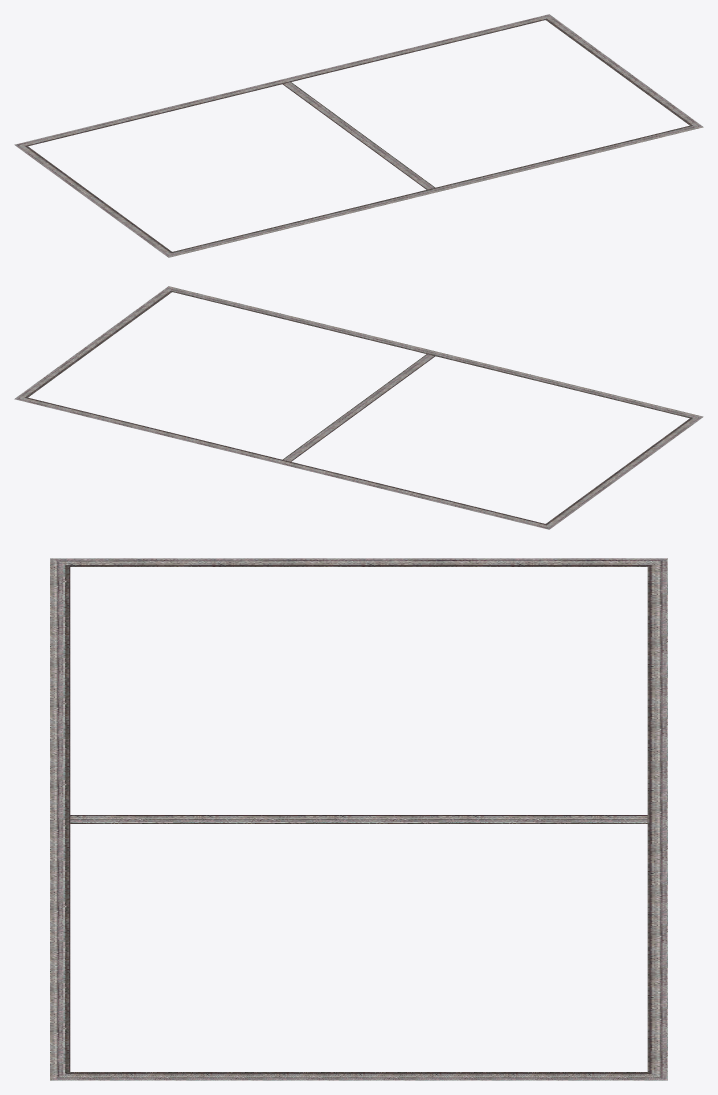
File: frame_4fx.fbx
The picture shows the model from 3 angles, top to bottom: view 1: azimuth 30°, elevation 25°; view 2: azimuth 150°, elevation 25°; view 3: azimuth 270°, elevation 25°; orthographic projection. The views are drawn at different scales.
Parts seen in each view (by area): view 1: mesh_0; view 2: mesh_0; view 3: mesh_0.
Boxes of the visible parts, x1,y1,x2,y2 form: mesh_0: (14,14,703,257); mesh_0: (14,286,703,529); mesh_0: (50,558,667,1080).
Size of the model in its own units: 600 by 2.38e-07 by 300.
Materials: 1 (1 with a texture image).
